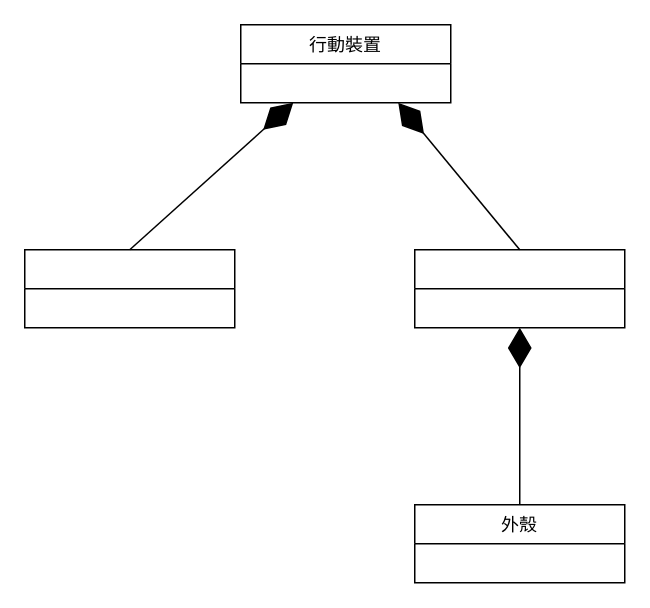
Image size: 650x608. Some labels were removed from this diagram. Here are the shapes that lost their labels. From the top down, the centre of each, then its label:
[129,288]: 軟體
[519,288]: 零件
